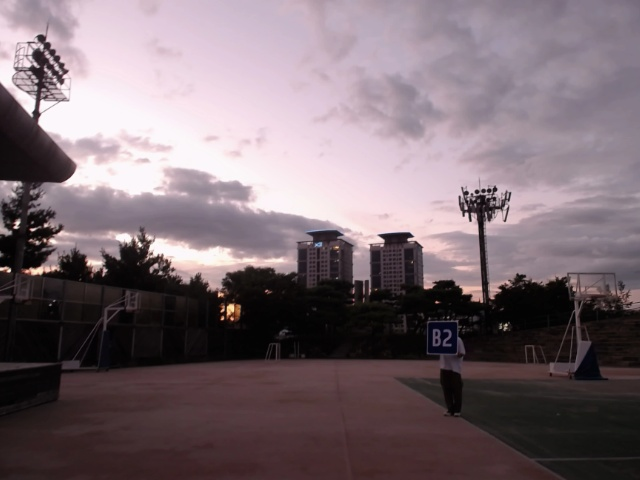delivery_b2: (427, 318, 459, 353)
